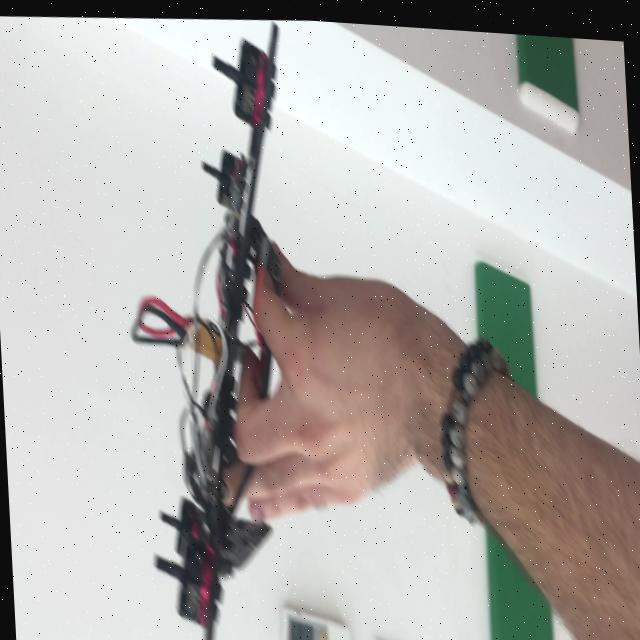drone: (111, 7, 315, 640)
